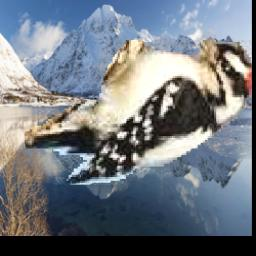Woodpecker: (16, 30, 252, 186)
